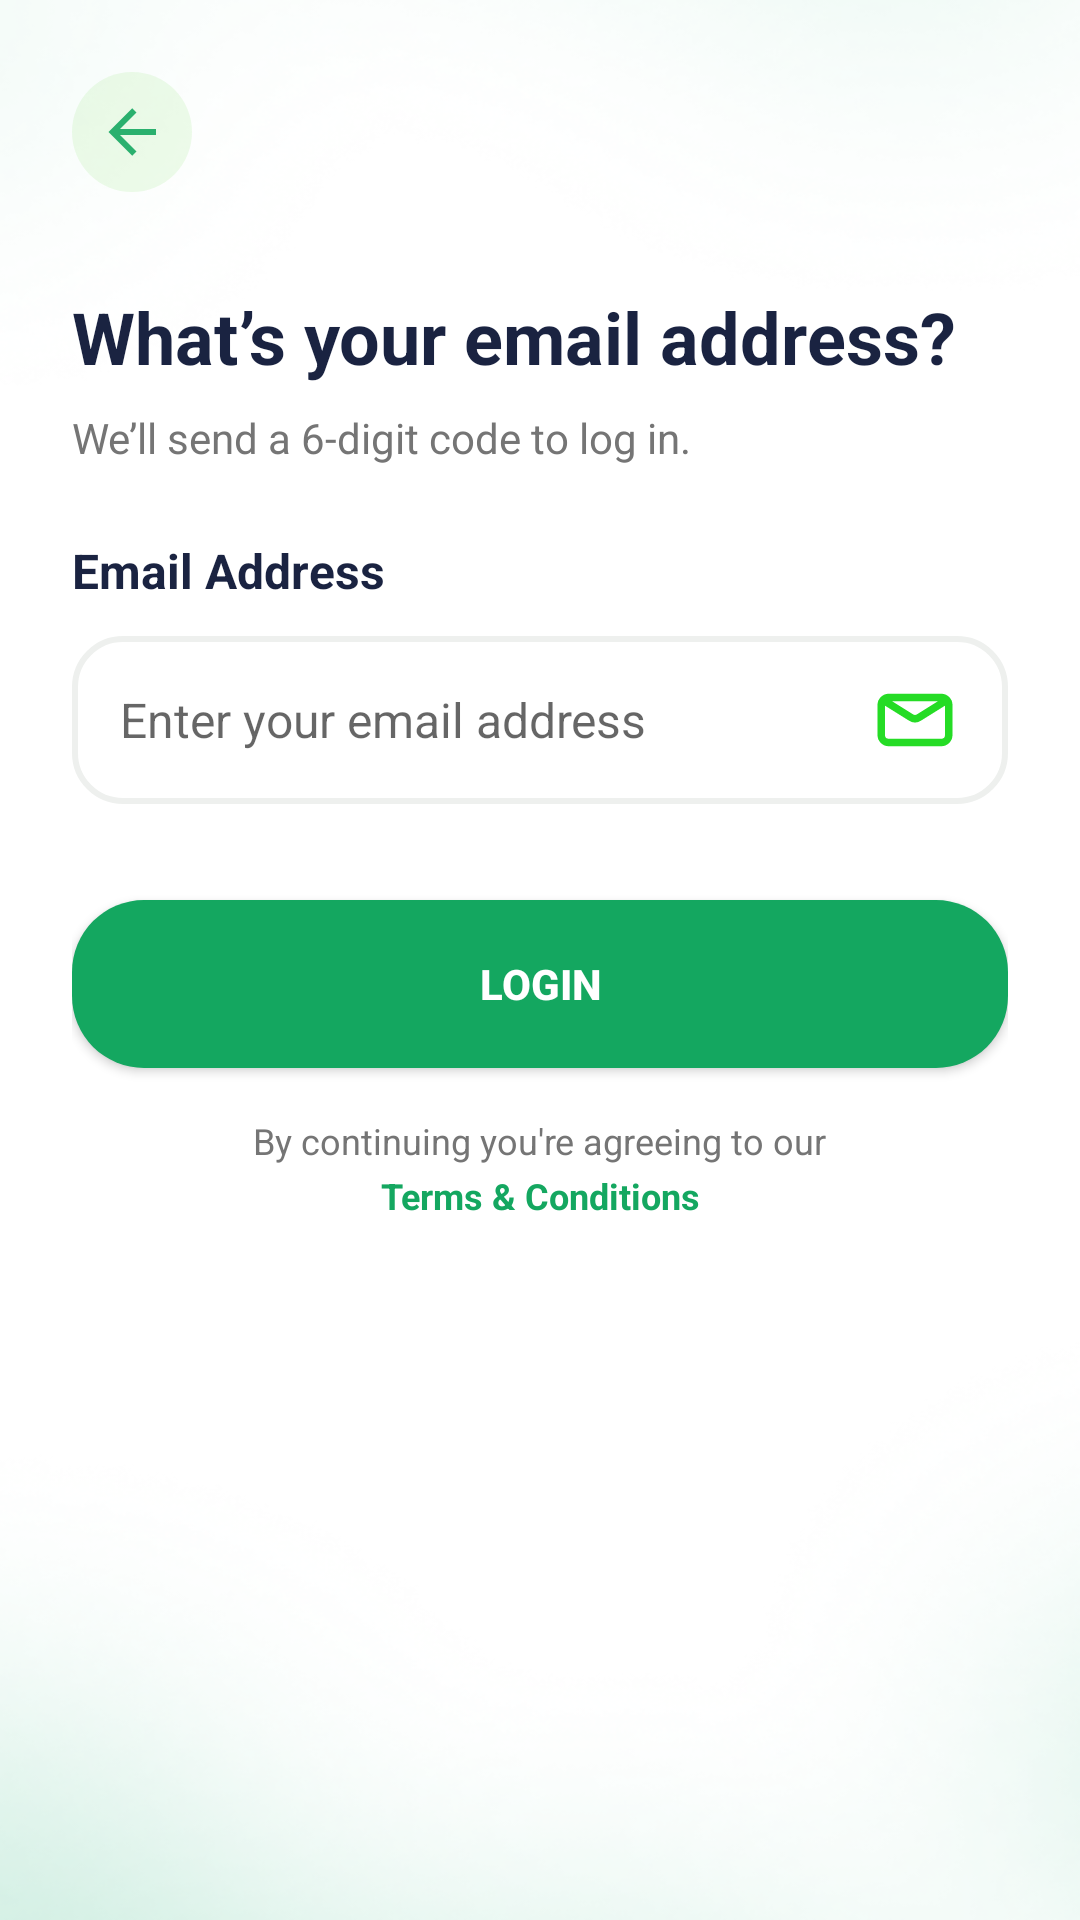

Where to tap for icons on this 1080w x 1920h app screen, as point (x, y):
Back: point (132, 132)
